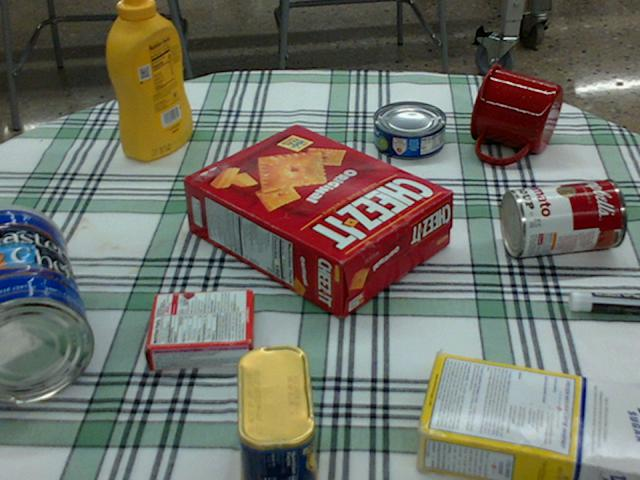cracker_box: (182, 122, 450, 318)
gelatin_box: (146, 290, 255, 366)
large_marker: (569, 289, 639, 314)
master_chef_can: (0, 204, 94, 402)
mug: (469, 63, 561, 164)
mustard_bottle: (107, 0, 192, 160)
potted_meat_can: (234, 342, 318, 479)
sugar_box: (413, 356, 639, 479)
tomato_soup_can: (500, 179, 625, 255)
tuna_fish_can: (373, 101, 446, 158)
